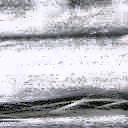crackTip: (1, 92, 128, 121)
